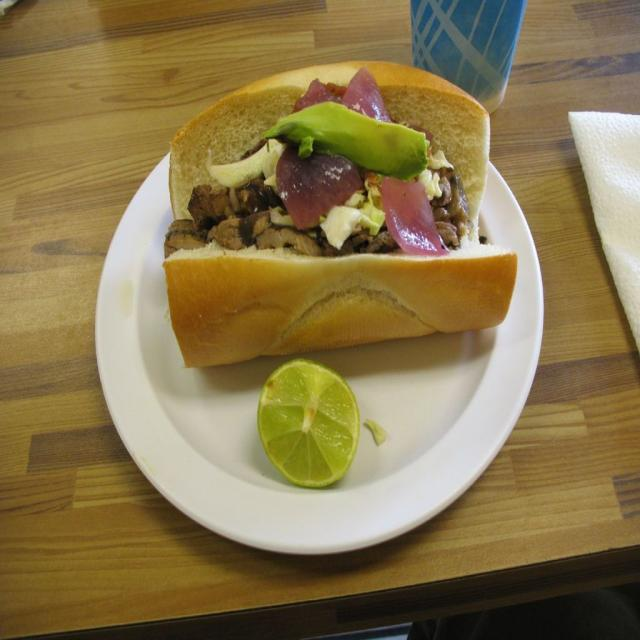Lemon: (255, 357, 361, 491)
